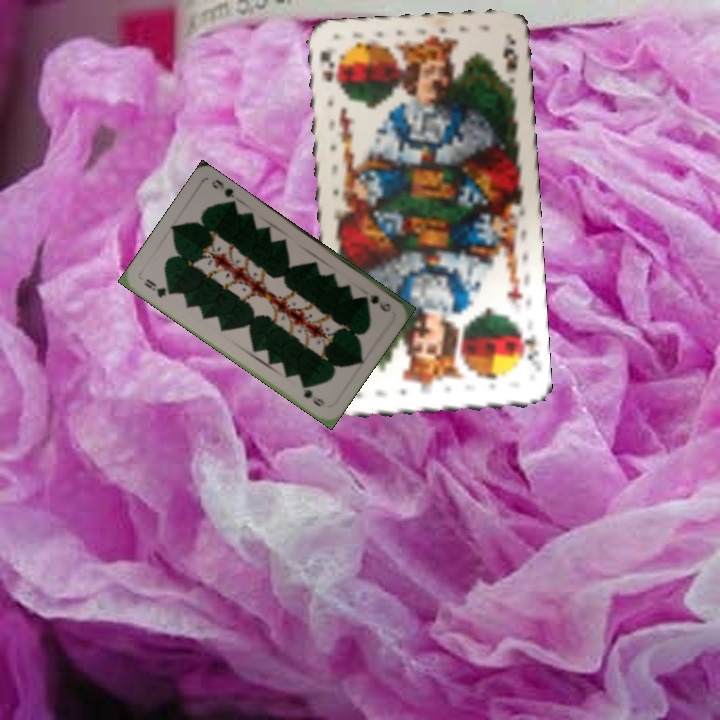G9: (358, 290, 394, 315), (140, 275, 174, 300)
SK: (513, 323, 542, 371), (315, 47, 337, 86)
